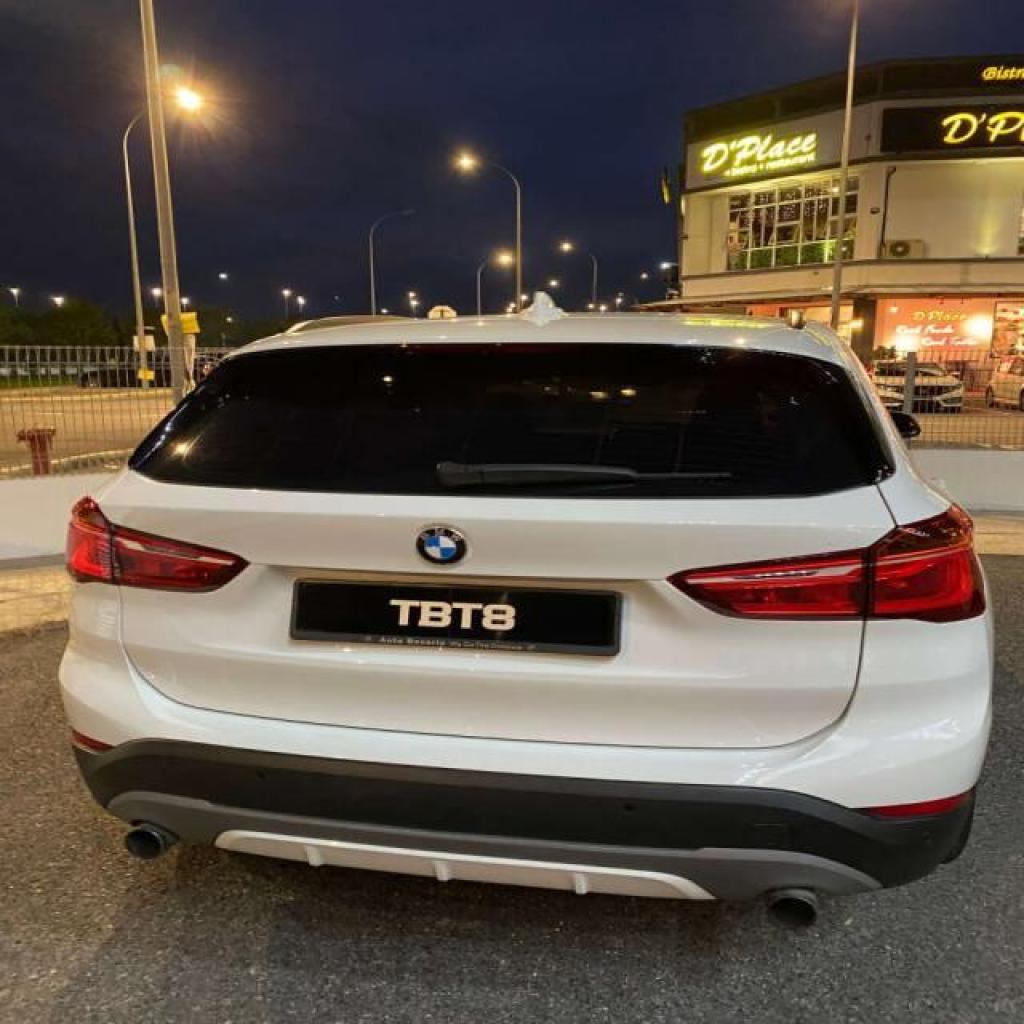car: (59, 294, 990, 917)
car plate: (290, 581, 619, 651)
